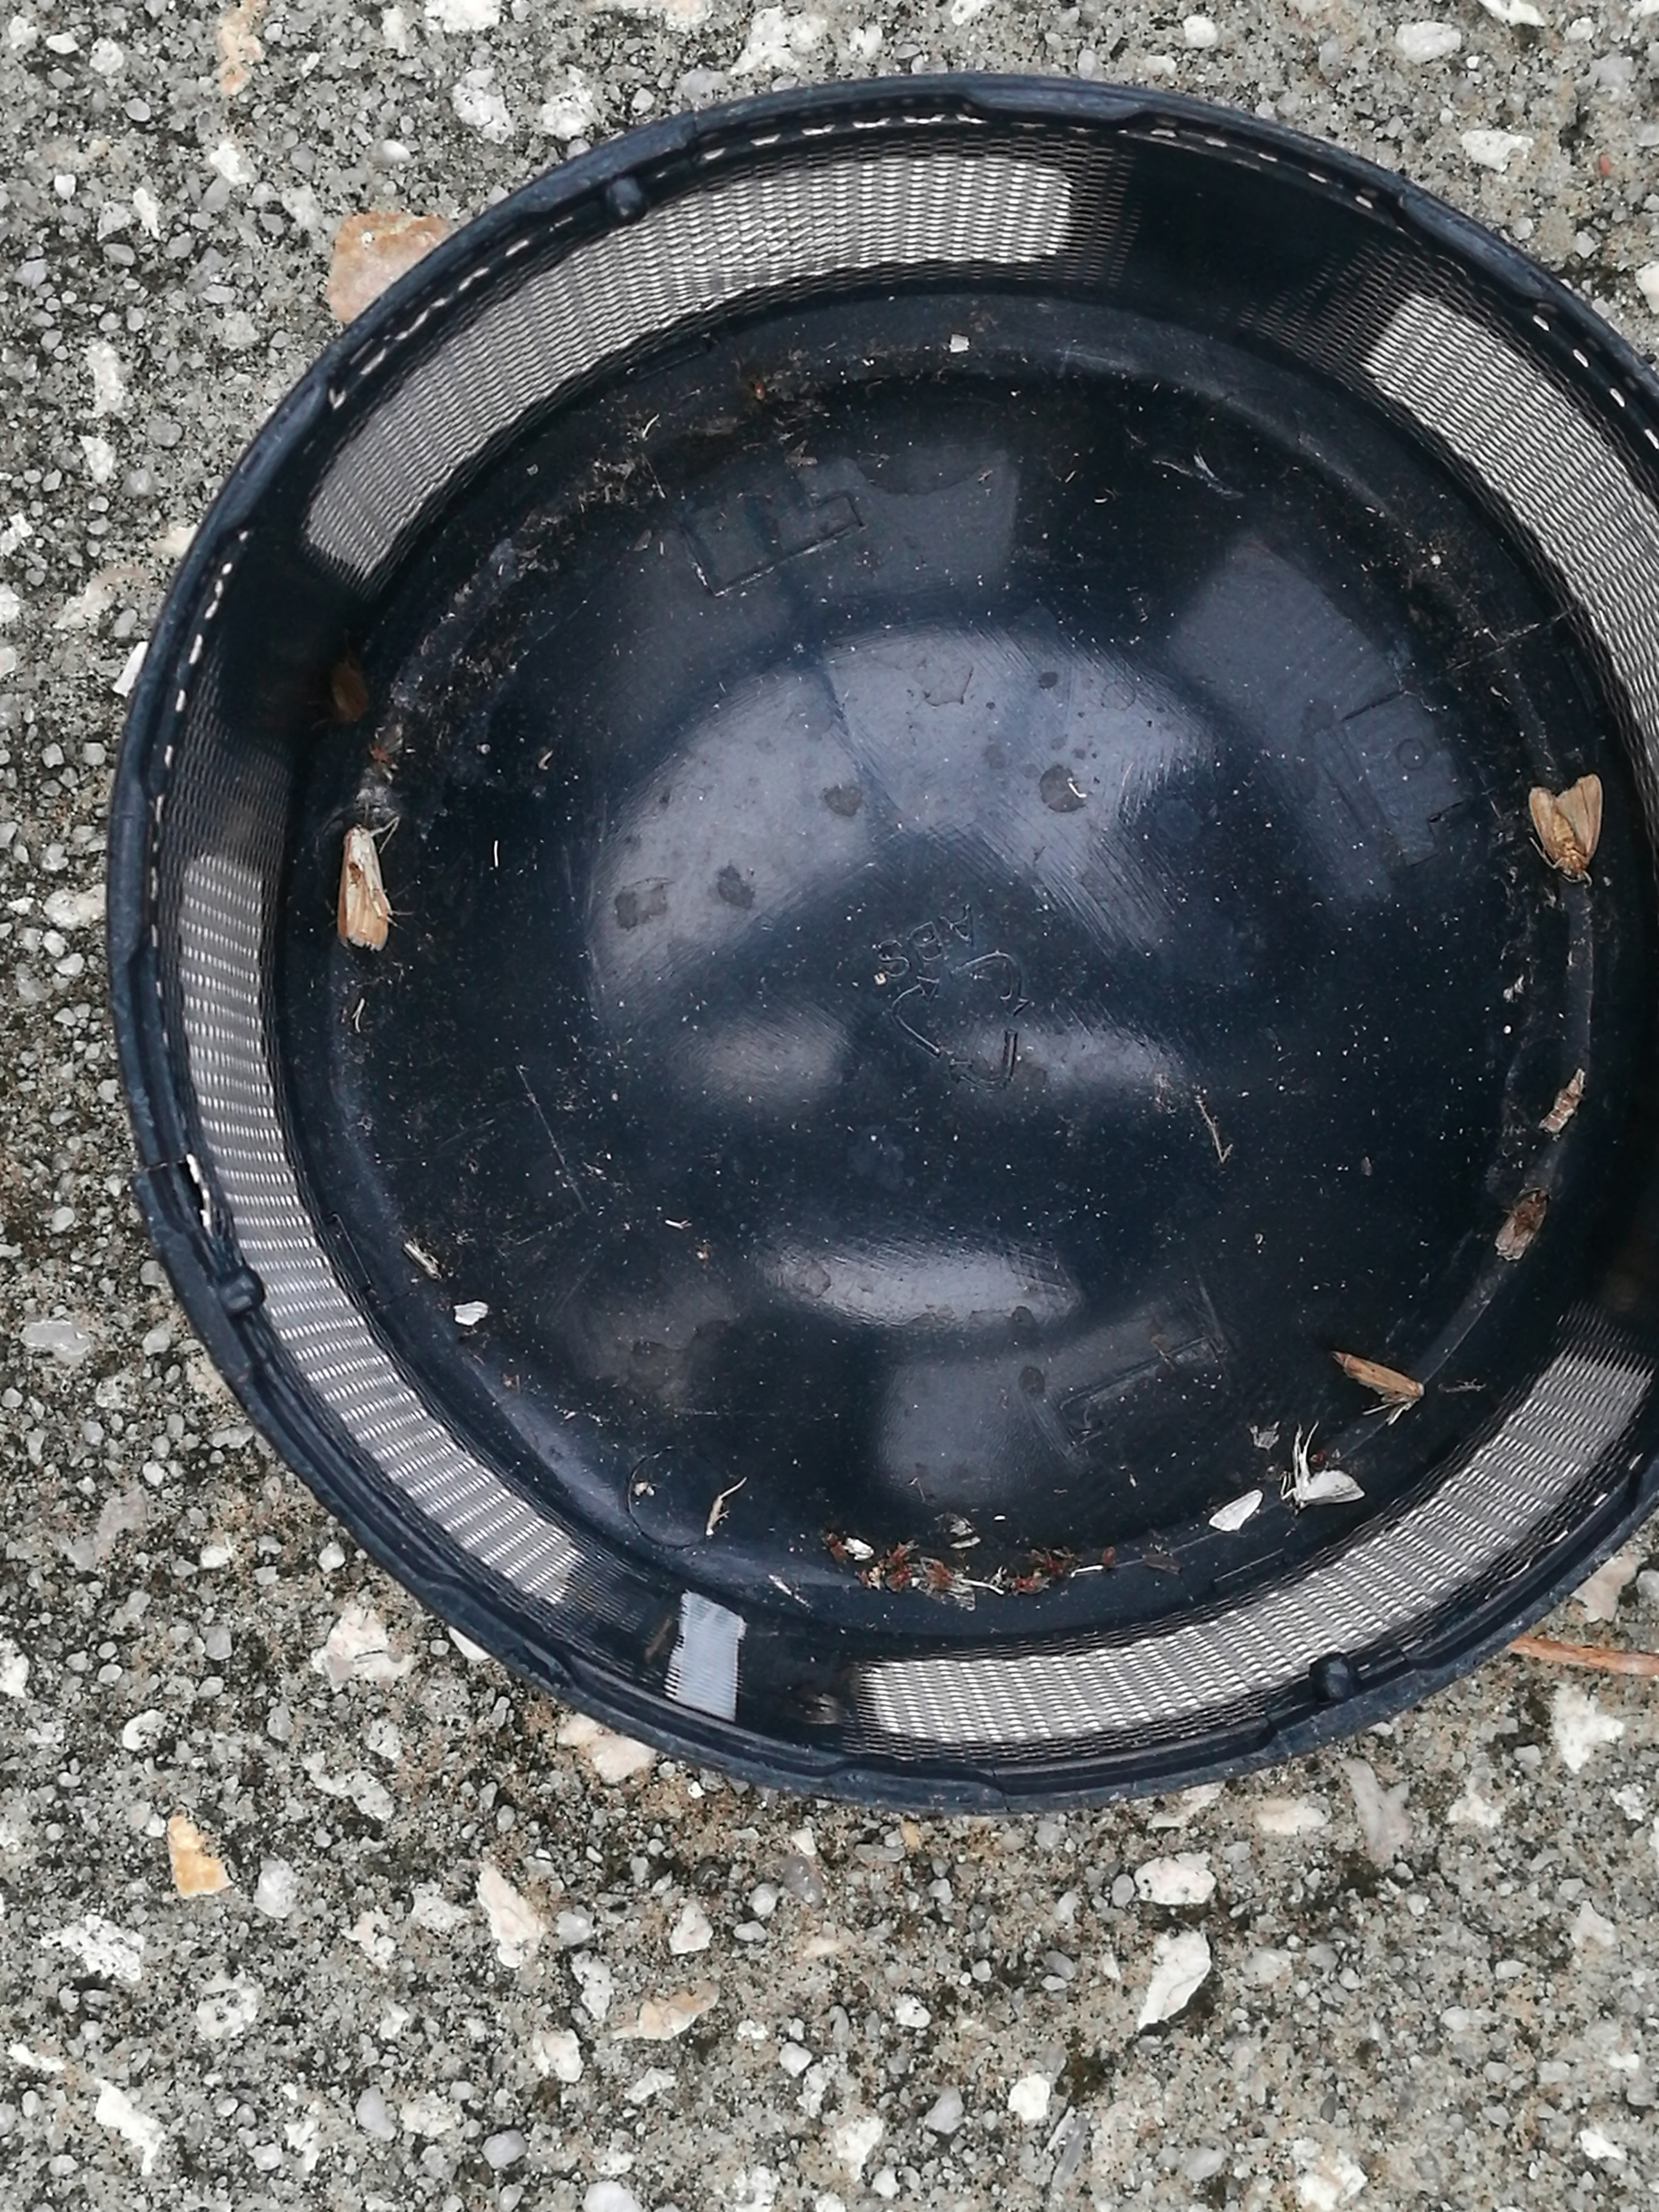mosquito: (340, 824, 385, 946), (1331, 1352, 1425, 1400), (1493, 1191, 1549, 1259)
moth: (1534, 777, 1601, 871), (1297, 1468, 1363, 1505)
